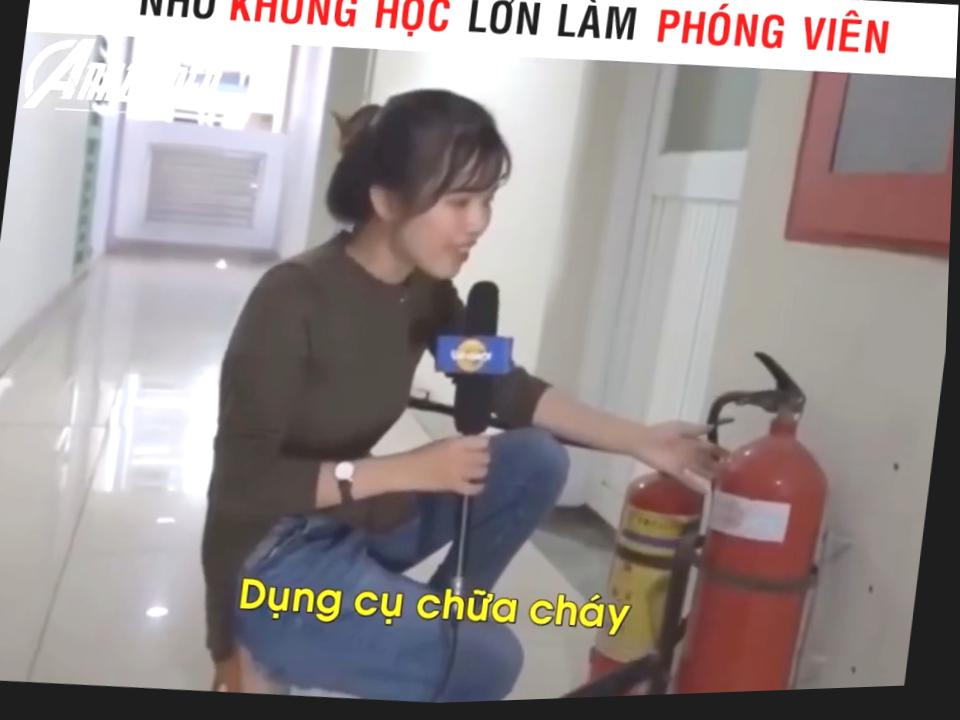FireExtinguisher: (675, 365, 851, 700), (577, 448, 694, 703)
not: (777, 64, 957, 277)
